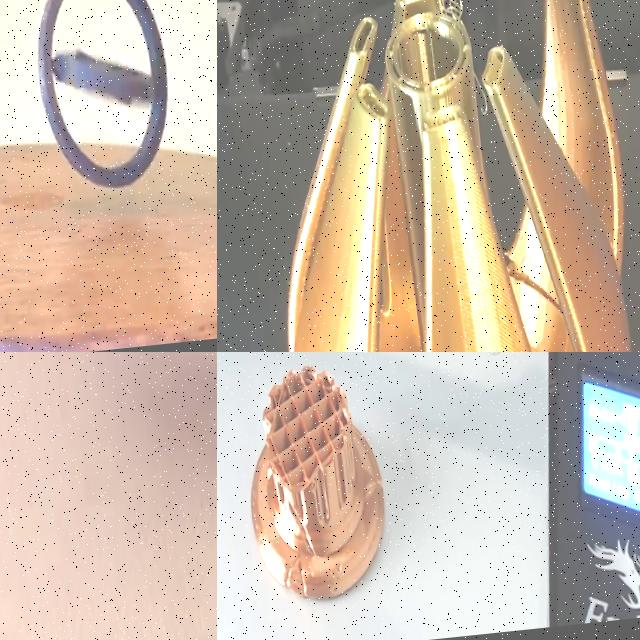spaghetti: (421, 0, 472, 21), (473, 78, 491, 122)
